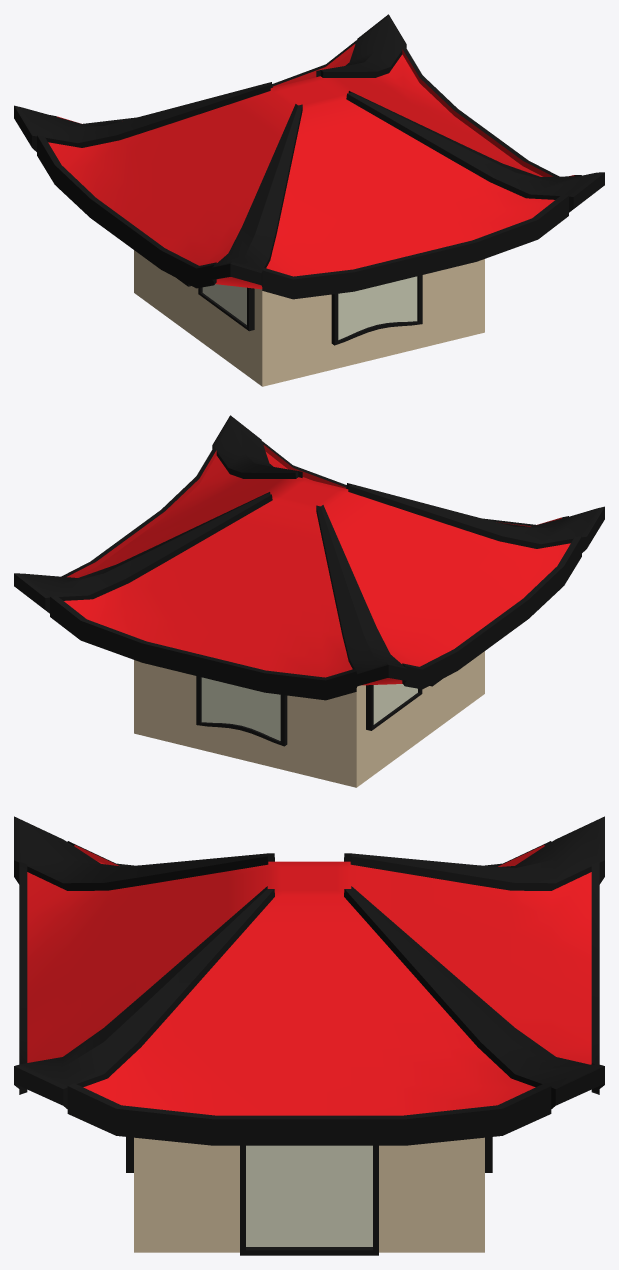
File: StackableHouse.fbx
3 views of the same model, one above another, from view 1: azimuth 30°, elevation 25°; view 2: azimuth 150°, elevation 25°; view 3: azimuth 270°, elevation 25° (orthographic). The views are drawn at different scales.
Visible parts, largest first — view 1: Cube.002; view 2: Cube.002; view 3: Cube.002.
Boxes of the visible parts, box(x1,y1,x2,y2) form: Cube.002: box(14, 14, 604, 386); Cube.002: box(14, 415, 604, 787); Cube.002: box(14, 816, 604, 1255).
Size of the model in its own units: 1897 by 1088 by 1897.
